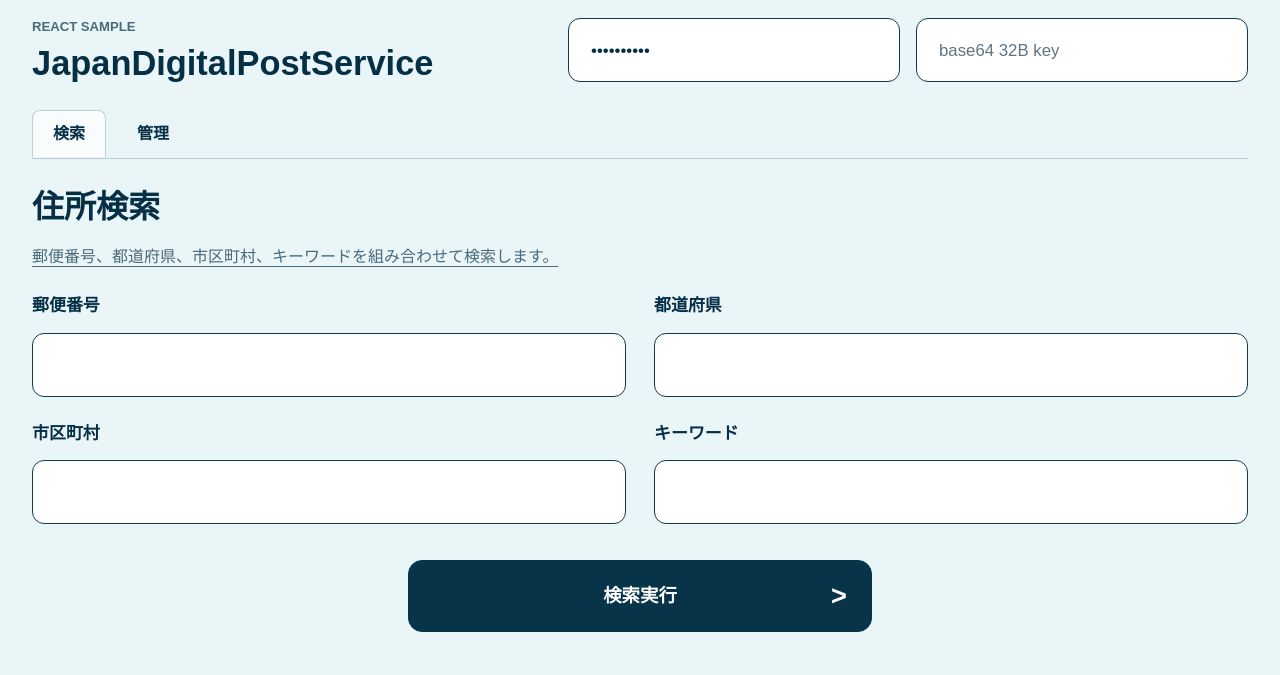
App › shows timeout state from response status and timeout errors
Type "千代田区" into the field labelled "市区町村" at (329, 492), box top-left (32, 460), bottom-right (626, 524)
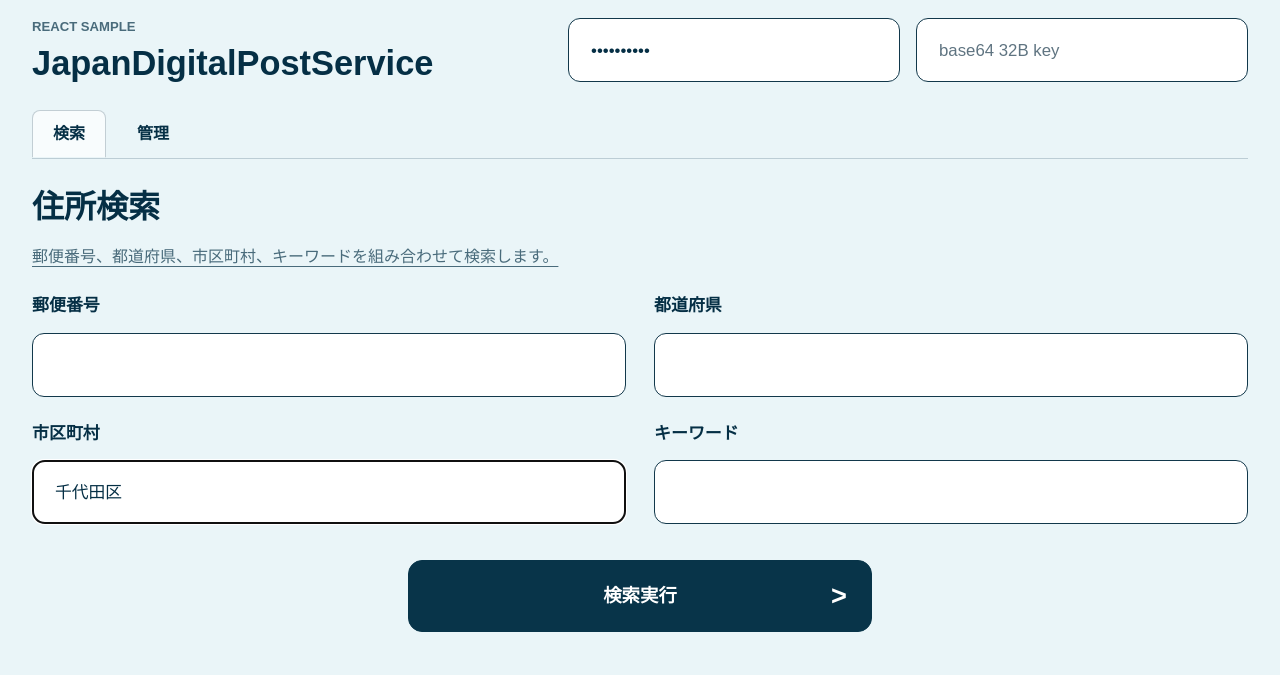
Click the button "検索実行" at (640, 596), box top-left (408, 560), bottom-right (872, 632)
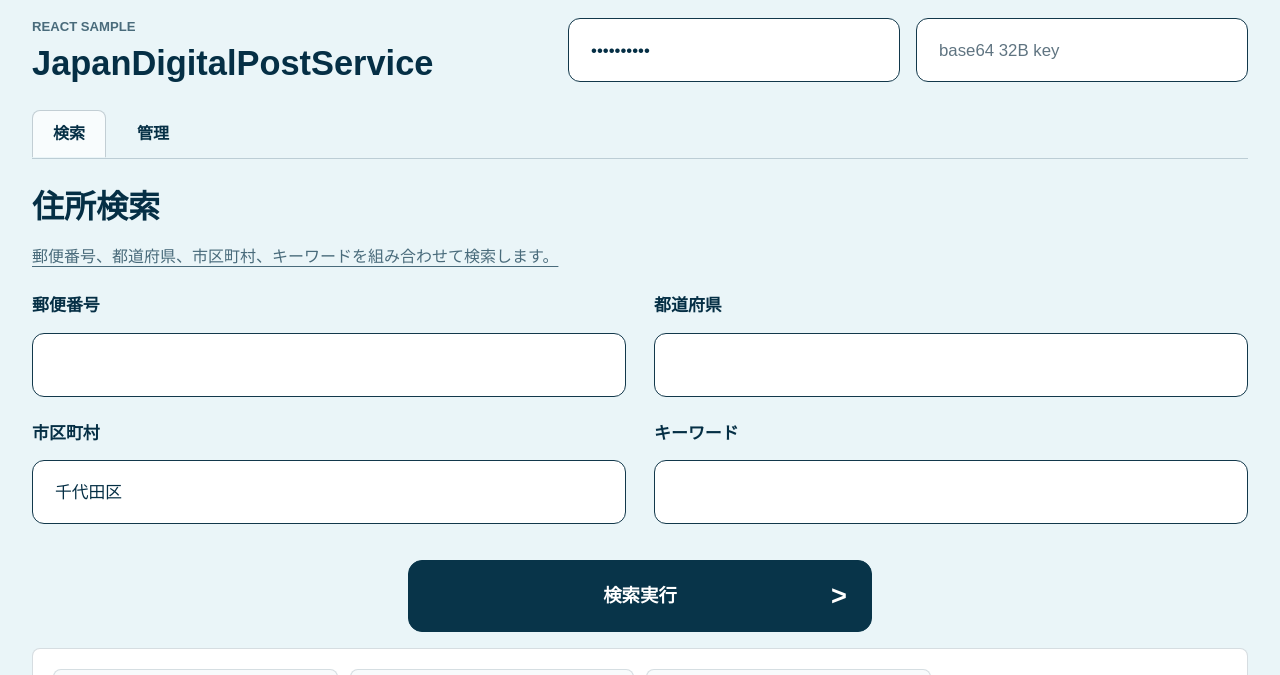
Click the button "検索実行" at (640, 596), box top-left (408, 560), bottom-right (872, 632)
(page scrolled)
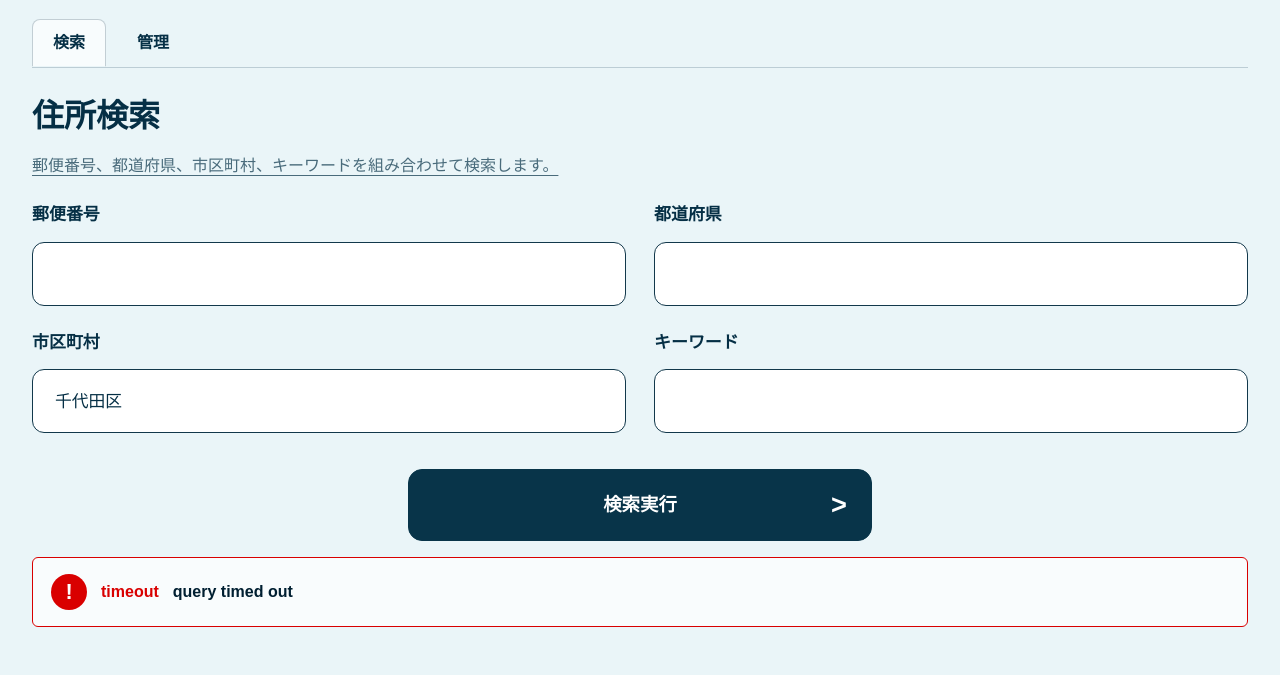
Now the message shows "timeout", box top-left (101, 583), bottom-right (159, 600)
Now the message shows "query timed out", box top-left (173, 583), bottom-right (293, 600)
